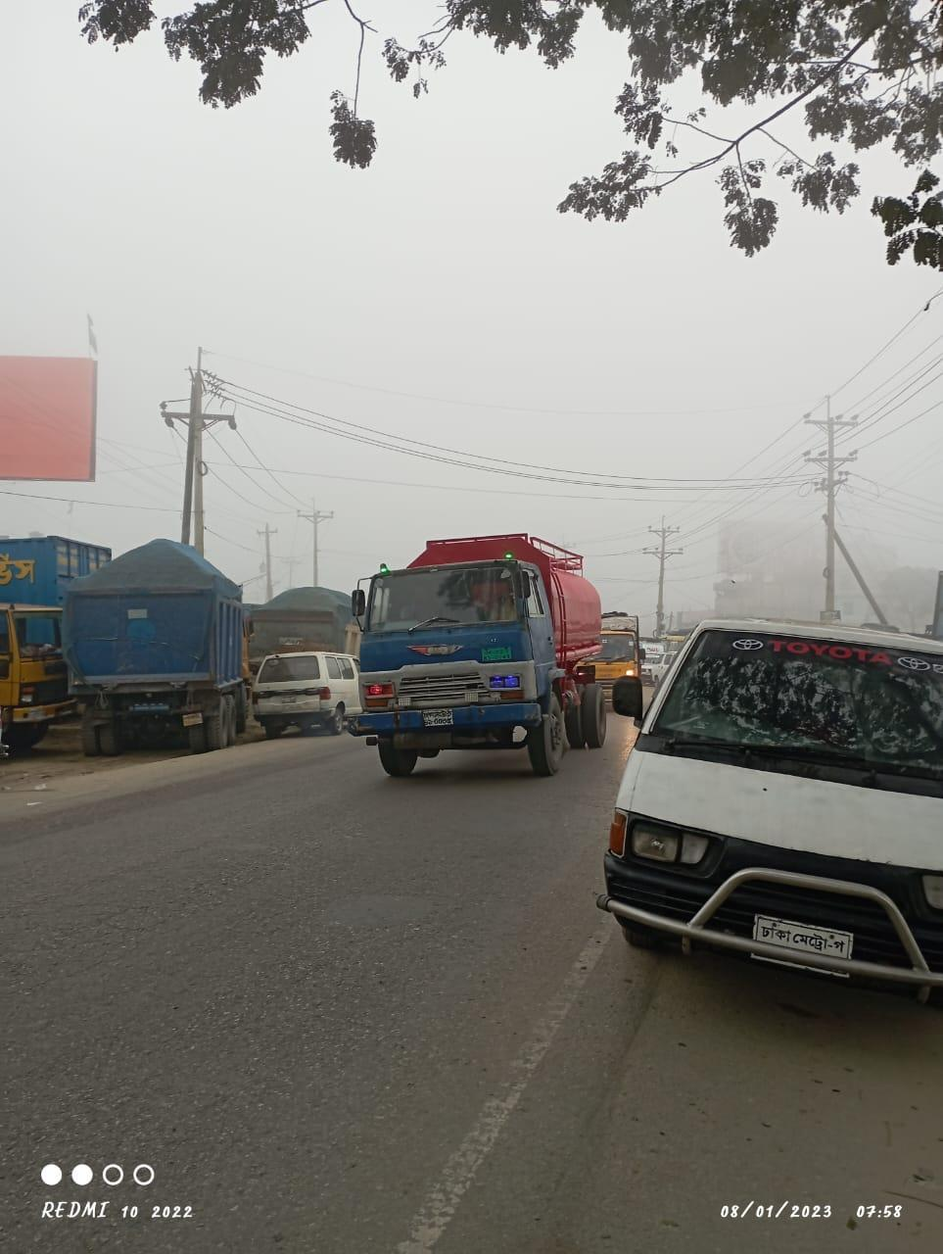Car: (605, 603, 938, 1015), (256, 650, 354, 726)
Truck: (337, 530, 605, 771), (48, 536, 255, 763)
